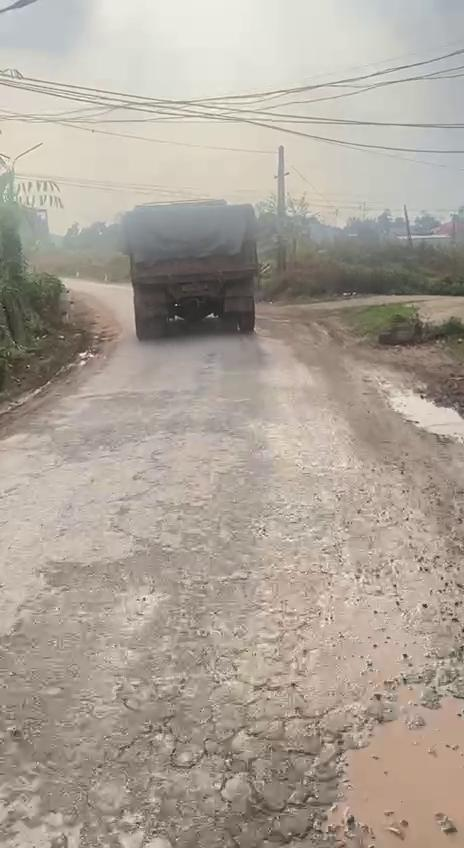pothole: (306, 674, 464, 848)
